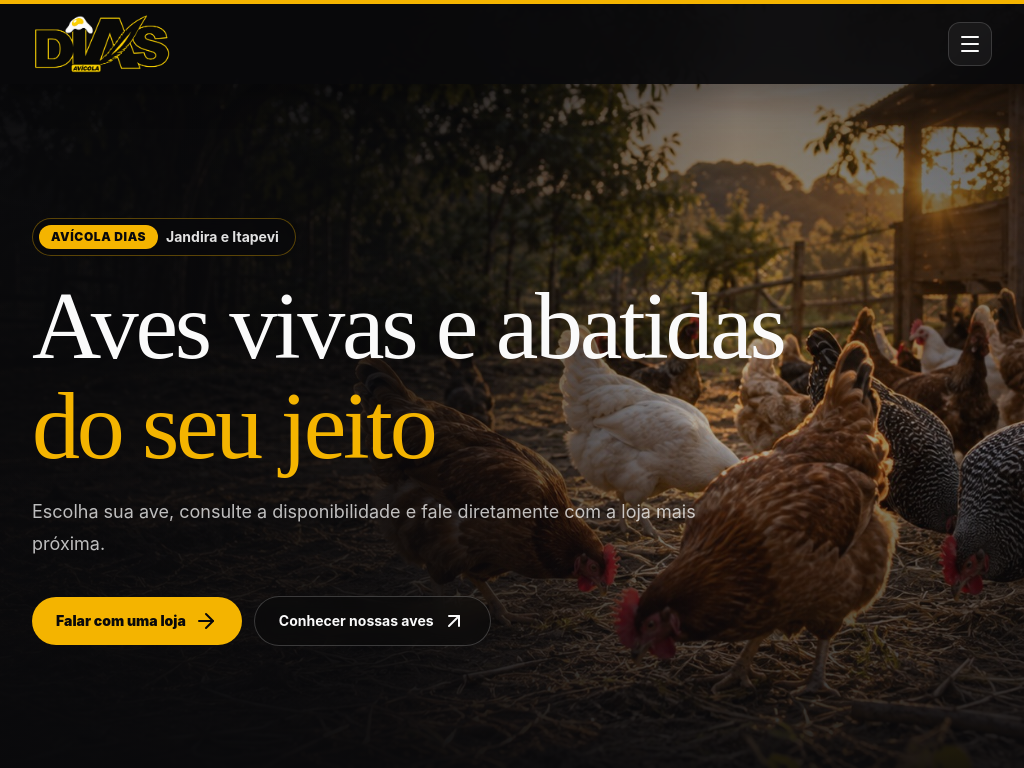
it: ResponsiveHeroBanner › opens and closes the mobile navigation accessibly
Click the button named "abrir menu" at {"x": 970, "y": 44}, box [948,22,992,66]
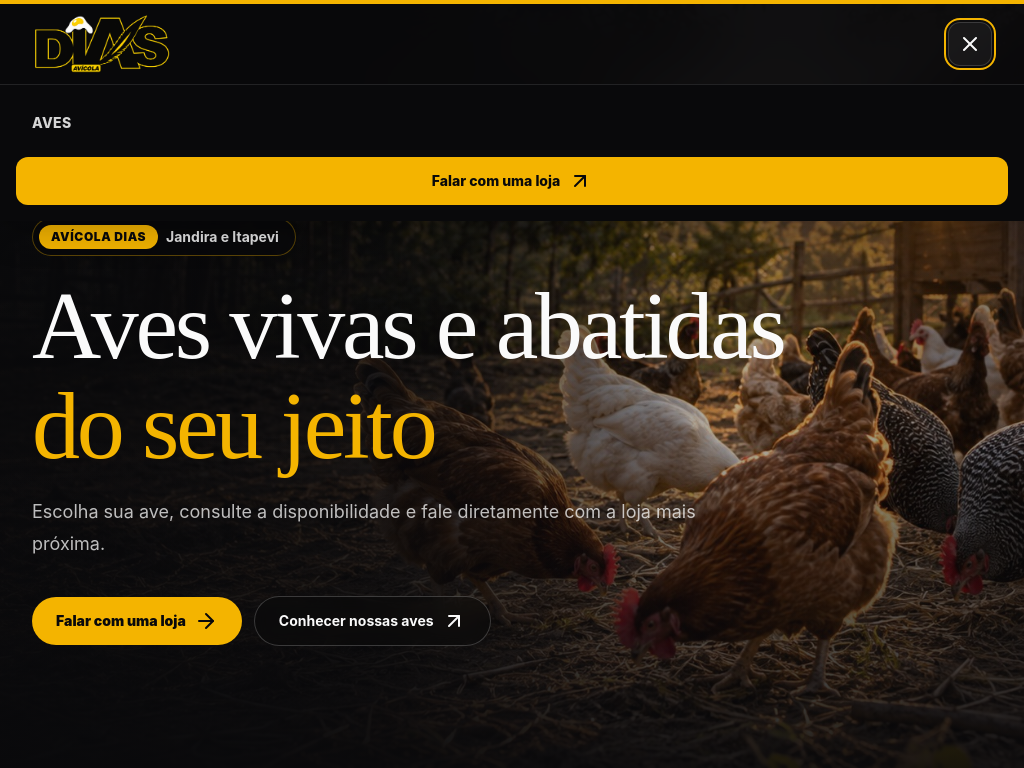
Now the button named "abrir menu" is expanded, box [948,22,992,66]
Click the link "Aves" at {"x": 52, "y": 122}, box [32,114,72,131]
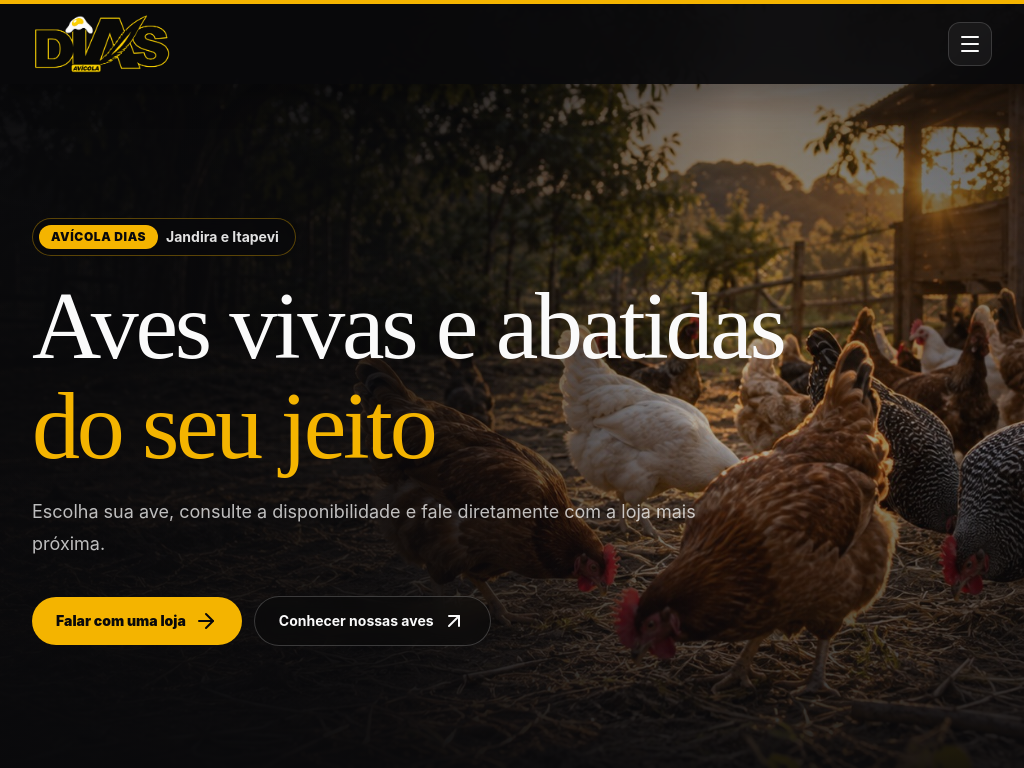
Now the button named "abrir menu" is collapsed, box [948,22,992,66]
